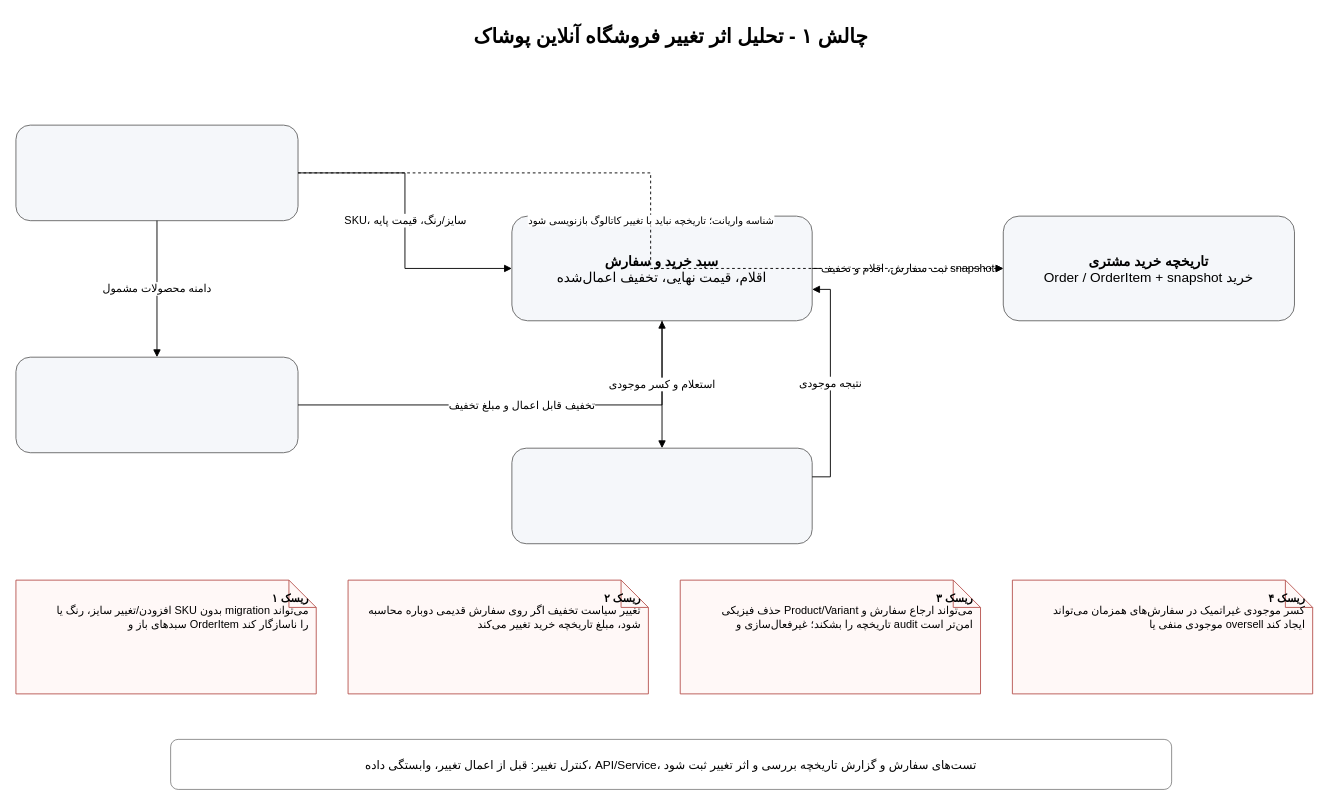
Some shapes in this 1329 by 805 pixel diagram are drawn without their labels. Each missing label, with the box of its shape:
تخفیف و پیشنهاد ویژه قواعد، بازه اعتبار، دامنه محصول: (15, 356, 298, 453)
مدیریت محصول و واریانت Product / Variant / SKU / Size / Color / Price: (15, 124, 298, 221)
موجودی موجودی هر واریانت و نتیجه کسر موجودی: (511, 447, 812, 544)
